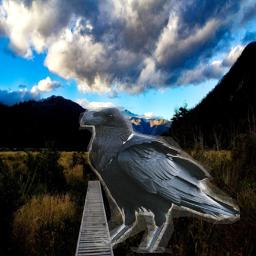Crow: (78, 107, 240, 253)
